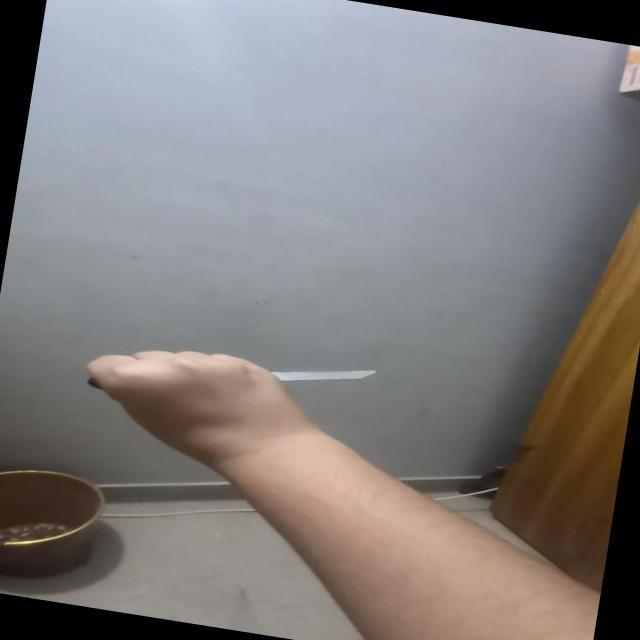Knife: (70, 318, 388, 421)
